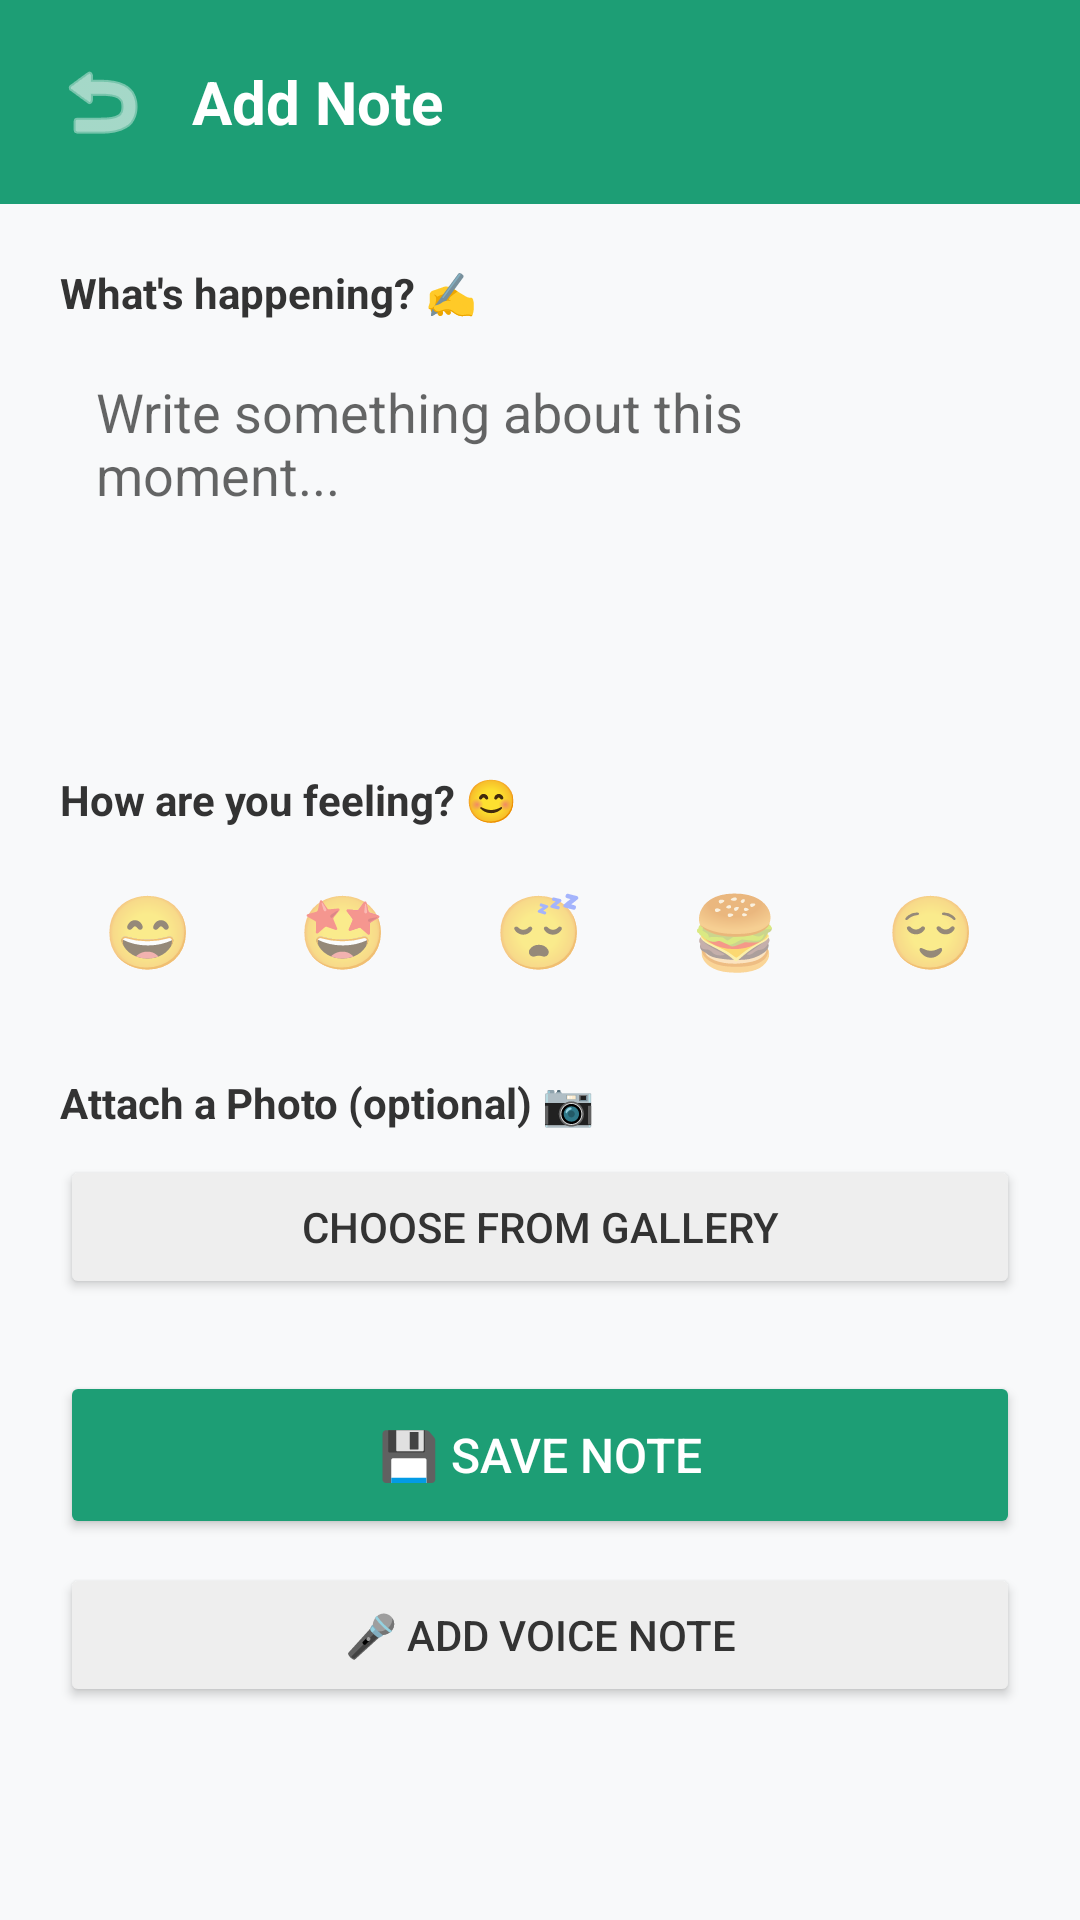

Where to tap for icons on this 1080w x 1920h app screen, as (x=x, y=y):
Back: (x=103, y=102)
